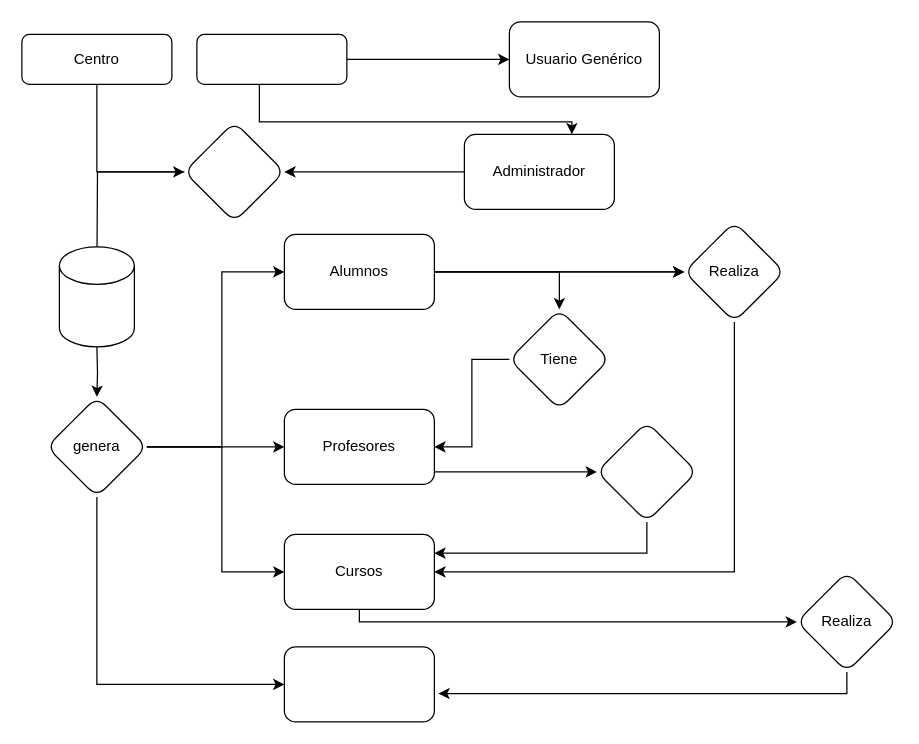
This 919x744 diagram has some shape labels left out. The centre of each missing label's shape, as x and y in pixels:
Administra: [233,171]
Aulas: [358,684]
BBDD: [96,296]
Imparte: [646,471]
Usuarios: [271,58]
